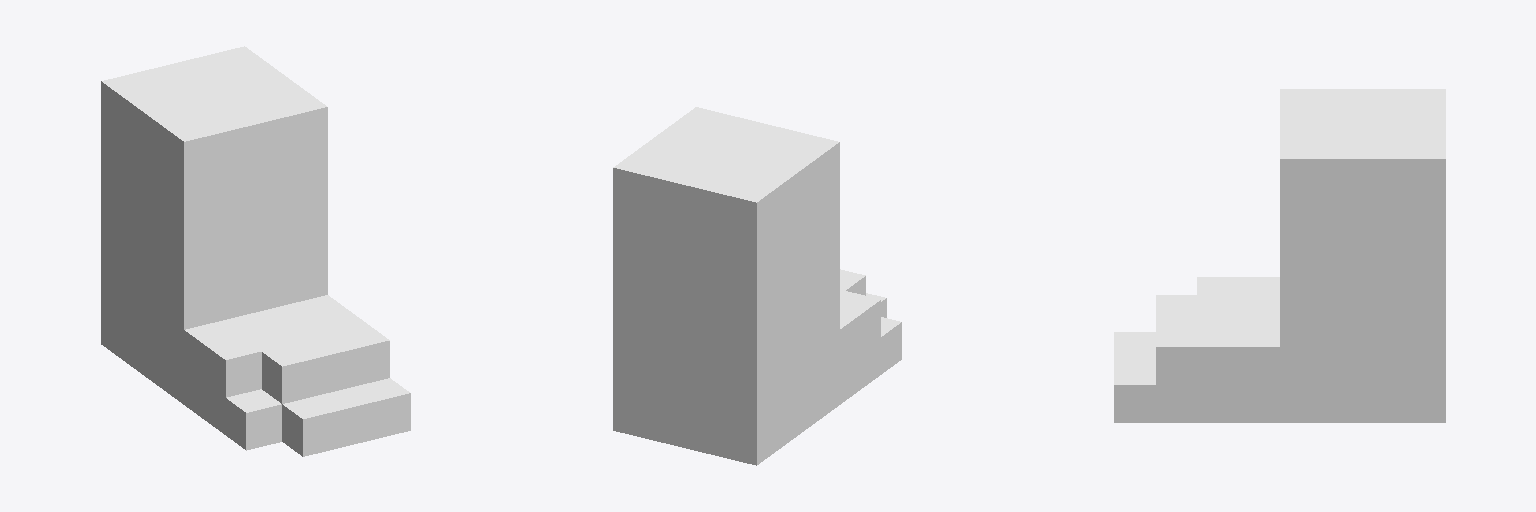
The model's file is vrach-0-2.obj.
3 views of the same model, side by side, from view 1: azimuth 30°, elevation 25°; view 2: azimuth 150°, elevation 25°; view 3: azimuth 270°, elevation 25° (orthographic).
Visible parts, largest first — view 1: object 1; view 2: object 1; view 3: object 1.
Part boxes in pixels (left/top/right/bottom): object 1: left=101, top=46, right=410, bottom=456; object 1: left=613, top=107, right=901, bottom=465; object 1: left=1114, top=89, right=1445, bottom=422.
Bounding box in the file's own units: 0.4 × 0.7 × 0.8.